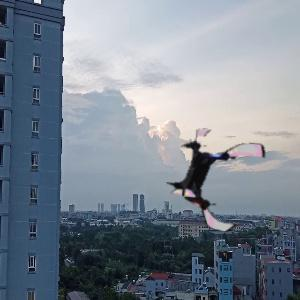drone: (162, 128, 270, 236)
